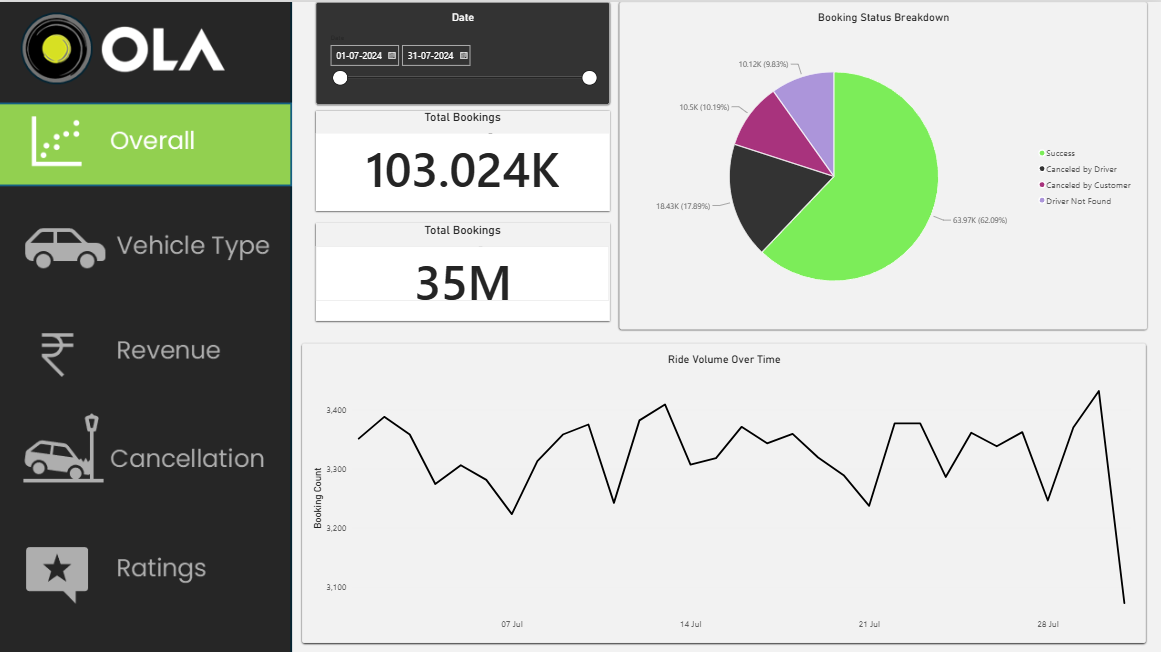

What the dashboard file says about the page in this screenshot:
{"tool":"powerbi","page":{"name":"Overall","canvas":[1920,1080],"ordinal":0},"visuals":[{"type":"actionButton","box":[0,333.3,484.1,135.7],"z":0},{"type":"actionButton","box":[0,335,484.1,135.7],"z":1000},{"type":"actionButton","box":[1.7,510.9,484.1,135.7],"z":2000},{"type":"actionButton","box":[1.7,678.4,484.1,135.7],"z":3000},{"type":"actionButton","box":[0,869.3,484.1,135.7],"z":4000},{"type":"actionButton","box":[1.7,169.2,484.1,135.7],"z":5000},{"type":"lineChart","title":"Ride Volume Over Time","fields":{"Category":["July.Date"],"Y":["CountNonNull(July.Booking_ID)"]},"box":[502.2,561.9,1389.4,494],"z":5001},{"type":"pieChart","title":"Booking Status Breakdown","fields":{"Category":["July.Booking_Status"],"Y":["CountNonNull(July.Booking_Status)"]},"box":[1025,0,868.6,539.3],"z":5002},{"type":"slicer","title":"Date","fields":{"Values":["July.Date"]},"box":[524.9,0,483.7,168.8],"z":5003},{"type":"cardVisual","title":"Total Bookings","fields":{"Data":["CountNonNull(July.Booking_ID)"]},"box":[524.9,179.1,483.7,165],"z":5004},{"type":"cardVisual","title":"Total Bookings","fields":{"Data":["Sum(July.Booking_Value)"]},"box":[524.9,364.3,483.7,160.5],"z":5005}]}

Visuals, with their boxes in screenshot pixels (x1, y1, x2, y2), scaled from the page's 1920x1080 canvas onto the 1161x652 screenshot:
actionButton: (0,201,293,283)
actionButton: (0,202,293,284)
actionButton: (1,308,294,390)
actionButton: (1,410,294,491)
actionButton: (0,525,293,607)
actionButton: (1,102,294,184)
"Ride Volume Over Time" lineChart: (304,339,1144,637)
"Booking Status Breakdown" pieChart: (620,0,1145,326)
"Date" slicer: (317,0,610,102)
"Total Bookings" cardVisual: (317,108,610,208)
"Total Bookings" cardVisual: (317,220,610,317)
